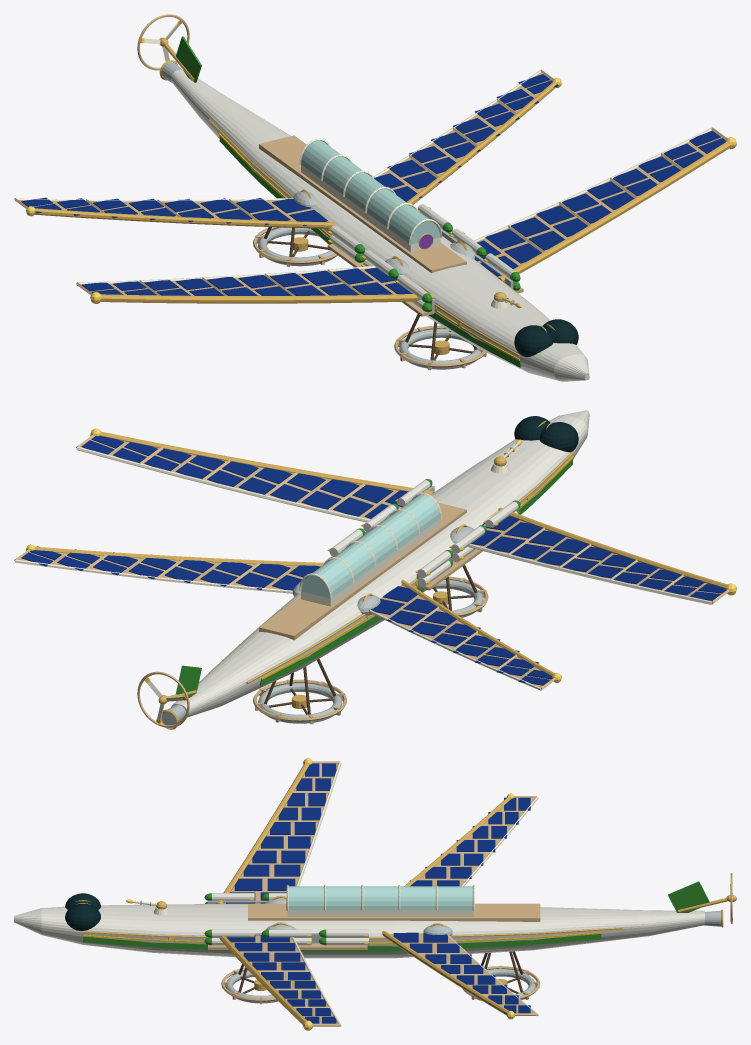
File: destroyer.obj
3 views of the same model, one above another, from view 1: azimuth 30°, elevation 25°; view 2: azimuth 150°, elevation 25°; view 3: azimuth 270°, elevation 25° (orthographic). The views are drawn at different scales.
Parts seen in each view (by area): view 1: destroyer; view 2: destroyer; view 3: destroyer.
Boxes of the visible parts, x1,y1,x2,y2 form: destroyer: (14, 14, 736, 381); destroyer: (14, 410, 736, 729); destroyer: (14, 758, 736, 1030).
Size of the model in its own units: 480 by 95.96 by 550.
Materials: 1 (1 with a texture image).
